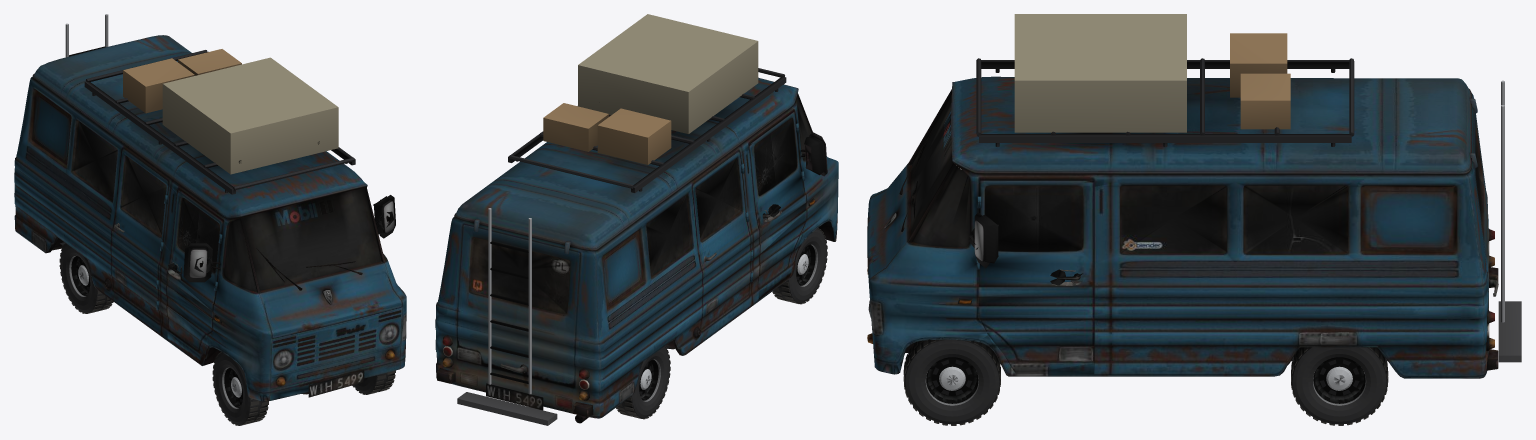
File: zuk_a06.lod0.glb
3 views of the same model, side by side, from view 1: azimuth 30°, elevation 25°; view 2: azimuth 150°, elevation 25°; view 3: azimuth 270°, elevation 25° (orthographic). The views are drawn at different scales.
Visible parts, largest first — view 1: Plane.018_0.001, acc_zuk, door_FR_zuk.001, wheel_FR.001, wheel_RR.001, door_FL_zuk.001, wheel_FL.001; view 2: Plane.018_0.001, acc_zuk, door_FR_zuk.001, wheel_FR.001, wheel_RR.001; view 3: Plane.018_0.001, acc_zuk, door_FL_zuk.001, wheel_FL.001, wheel_RL.001.
Boxes of the visible parts, x1,y1,x2,y2 form: Plane.018_0.001: [14, 35, 406, 401]; acc_zuk: [65, 14, 355, 194]; door_FR_zuk.001: [166, 189, 223, 361]; wheel_FR.001: [212, 351, 268, 425]; wheel_RR.001: [59, 243, 113, 313]; door_FL_zuk.001: [373, 195, 395, 238]; wheel_FL.001: [352, 370, 395, 394]; Plane.018_0.001: [435, 77, 838, 423]; acc_zuk: [457, 14, 786, 425]; door_FR_zuk.001: [749, 111, 827, 299]; wheel_FR.001: [772, 228, 827, 304]; wheel_RR.001: [616, 346, 670, 419]; Plane.018_0.001: [867, 76, 1498, 378]; acc_zuk: [976, 14, 1521, 362]; door_FL_zuk.001: [969, 180, 1094, 374]; wheel_FL.001: [903, 339, 1000, 425]; wheel_RL.001: [1291, 347, 1388, 425].
Bounding box in the file's own units: 0.6642 × 0.7937 × 1.4.
Materials: 7 (2 with a texture image).
